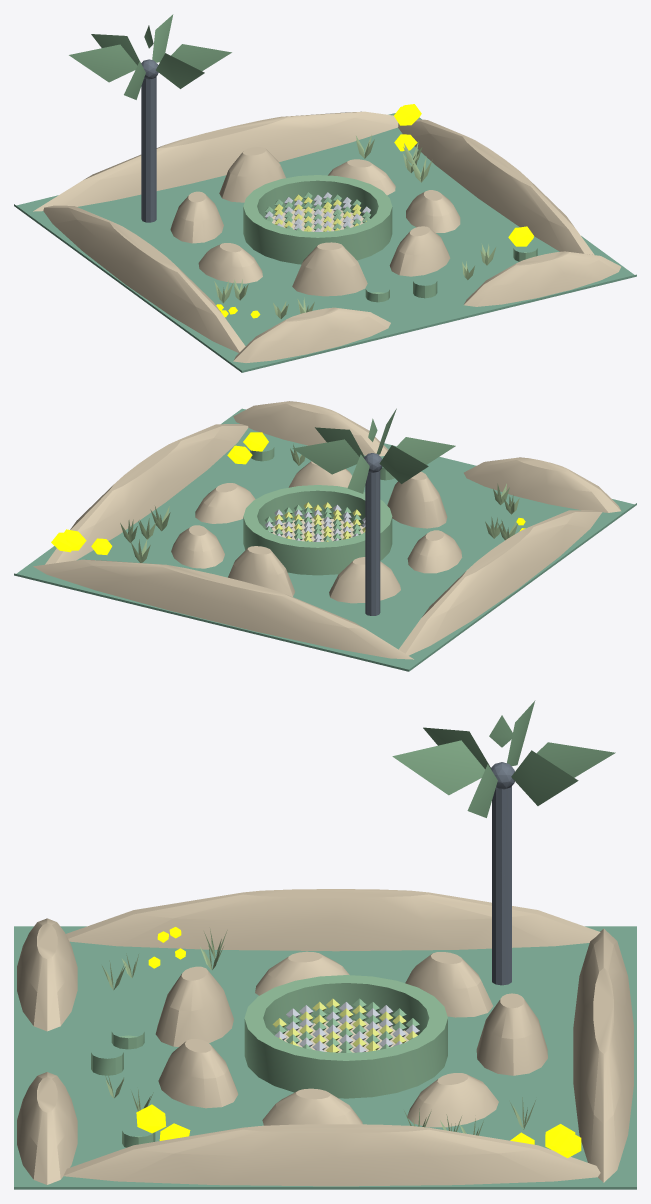
The picture shows the model from 3 angles, top to bottom: view 1: azimuth 30°, elevation 25°; view 2: azimuth 150°, elevation 25°; view 3: azimuth 270°, elevation 25°; orthographic projection. The views are drawn at different scales.
Parts seen in each view (by area): view 1: Terrain, Safety_Pad, Pit_Rim, Tree_Canopy, Tree_Trunk, Grass_Tufts, Foliage, Pit_Balls_Leaf, Pit_Balls_White, Pit_Balls_Ball, Stepping_Pods, Pit_Bed; view 2: Terrain, Safety_Pad, Pit_Rim, Tree_Canopy, Tree_Trunk, Grass_Tufts, Foliage, Pit_Balls_Leaf, Pit_Balls_Ball, Pit_Balls_White, Pit_Bed; view 3: Terrain, Safety_Pad, Pit_Rim, Tree_Canopy, Tree_Trunk, Foliage, Pit_Balls_White, Pit_Balls_Ball, Pit_Balls_Leaf, Grass_Tufts, Stepping_Pods, Pit_Bed.
Boxes of the visible parts, bbox=[...] form: Terrain: bbox=[33, 111, 620, 362]; Safety_Pad: bbox=[14, 113, 636, 372]; Pit_Rim: bbox=[243, 175, 392, 264]; Tree_Canopy: bbox=[69, 14, 231, 99]; Tree_Trunk: bbox=[141, 59, 158, 222]; Grass_Tufts: bbox=[214, 135, 495, 318]; Foliage: bbox=[216, 104, 533, 318]; Pit_Balls_Leaf: bbox=[265, 192, 370, 231]; Pit_Balls_White: bbox=[265, 192, 370, 231]; Pit_Balls_Ball: bbox=[274, 194, 366, 231]; Stepping_Pods: bbox=[365, 248, 537, 302]; Pit_Bed: bbox=[272, 208, 363, 231]; Terrain: bbox=[33, 401, 621, 659]; Safety_Pad: bbox=[14, 408, 636, 671]; Pit_Rim: bbox=[243, 485, 392, 575]; Tree_Canopy: bbox=[292, 408, 455, 493]; Tree_Trunk: bbox=[364, 453, 382, 615]; Grass_Tufts: bbox=[120, 444, 519, 562]; Foliage: bbox=[51, 432, 525, 554]; Pit_Balls_Leaf: bbox=[265, 504, 361, 541]; Pit_Balls_Ball: bbox=[274, 502, 365, 541]; Pit_Balls_White: bbox=[265, 504, 365, 541]; Pit_Bed: bbox=[272, 518, 363, 541]; Terrain: bbox=[17, 889, 633, 1186]; Safety_Pad: bbox=[14, 926, 636, 1189]; Pit_Rim: bbox=[244, 975, 447, 1098]; Tree_Canopy: bbox=[392, 700, 615, 817]; Tree_Trunk: bbox=[490, 762, 514, 985]; Foliage: bbox=[136, 927, 581, 1158]; Pit_Balls_White: bbox=[274, 1002, 419, 1052]; Pit_Balls_Ball: bbox=[272, 998, 417, 1052]; Pit_Balls_Leaf: bbox=[273, 998, 419, 1052]; Grass_Tufts: bbox=[102, 929, 535, 1135]; Stepping_Pods: bbox=[91, 1032, 155, 1147]; Pit_Bed: bbox=[283, 1020, 408, 1052].
Size of what is drawn, in the model's own units: 6 by 2.85 by 6.
Materials: 10 (2 with a texture image).
